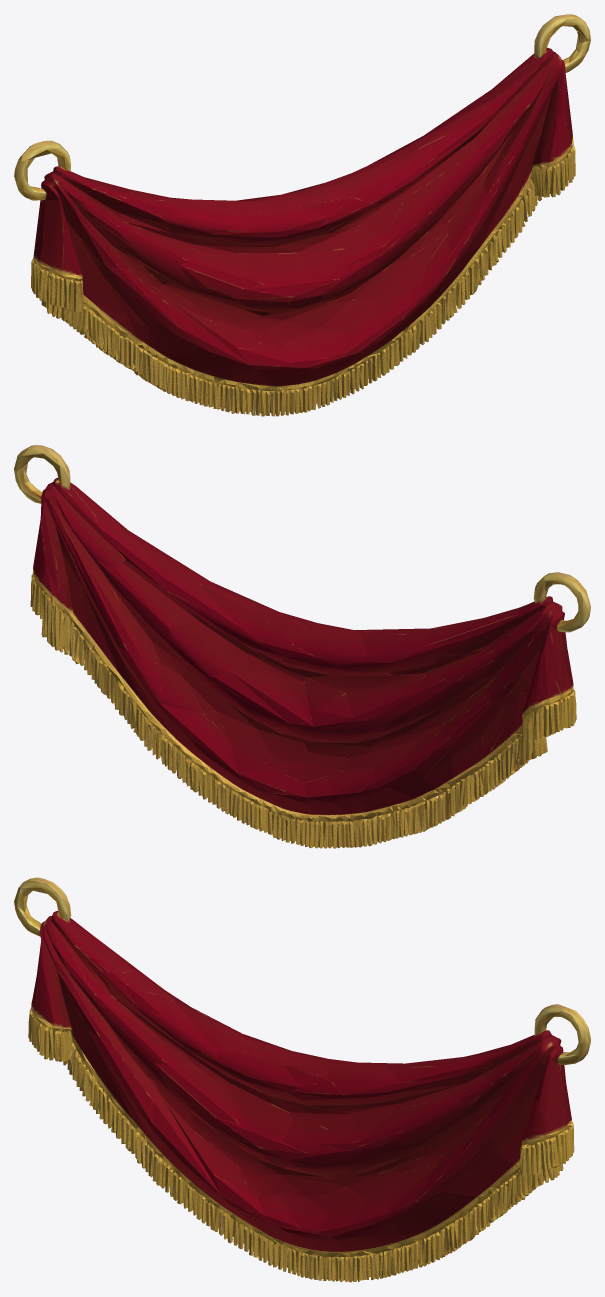
File: festoon.glb
3 renders of one model, top to bottom at view 1: azimuth 30°, elevation 25°; view 2: azimuth 150°, elevation 25°; view 3: azimuth 330°, elevation 25°, orthographic.
Bounding box in the file's own units: 1.9 × 1.05 × 0.1749.
1 material, 1 textured.
